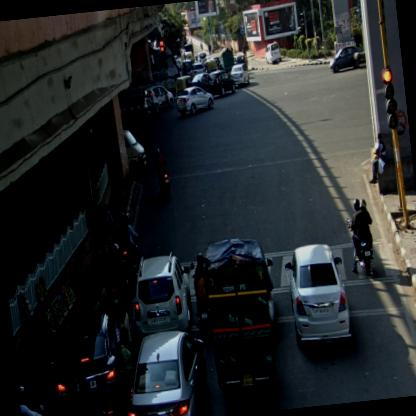car: (119, 326, 212, 415), (282, 242, 354, 356), (48, 311, 125, 415), (125, 250, 195, 343), (174, 84, 216, 118), (122, 128, 149, 180), (326, 44, 362, 76), (141, 82, 174, 112), (203, 69, 235, 98), (228, 63, 250, 87), (264, 40, 282, 67), (190, 72, 211, 90)
motorcycle: (343, 195, 378, 278), (188, 253, 214, 345), (102, 244, 132, 323), (115, 208, 142, 281), (18, 381, 47, 415), (140, 93, 160, 121)
truck: (203, 236, 279, 410), (218, 47, 236, 74)
